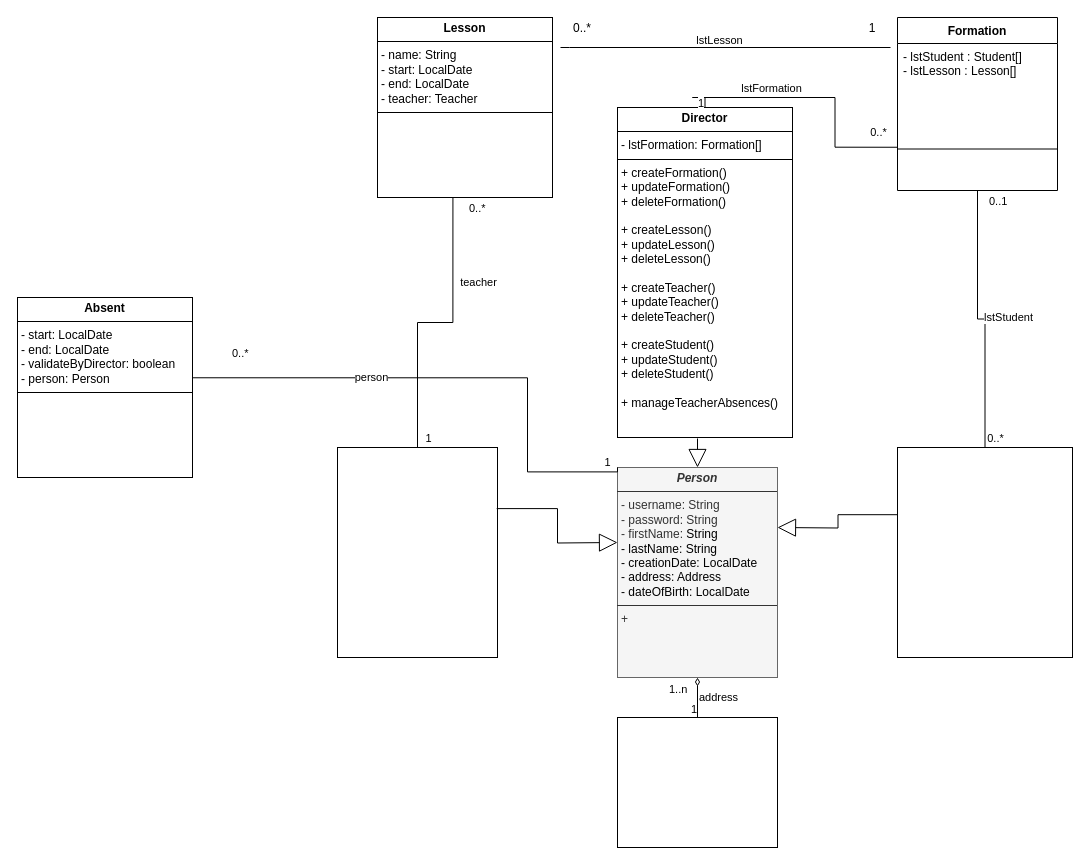
Image size: 1090x865. Some labels were removed from this diagram. The shapes that lost their labels are listed below. From the top down, each one's centre as x and y in pixels, then its label:
(x=417, y=552): Teacher - arrivalDate: LocalDate + manageStudentAbsences()
(x=984, y=552): Student - id: int + display() + retrieveSchedule(): Lesson[]
(x=697, y=782): Address - street: String - city: String - postCode: int + search()
